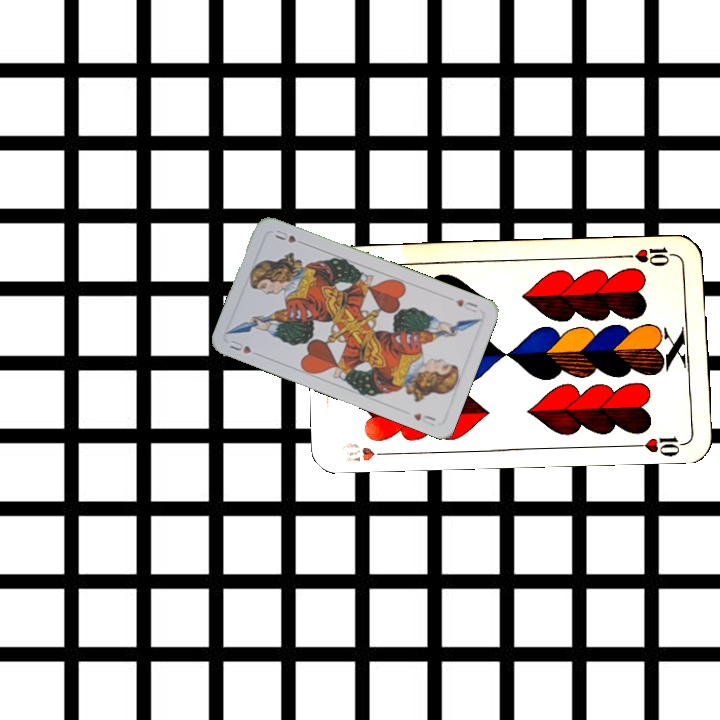H10: (621, 243, 680, 269), (337, 438, 395, 464)
HU: (451, 295, 481, 316), (225, 336, 254, 356)
